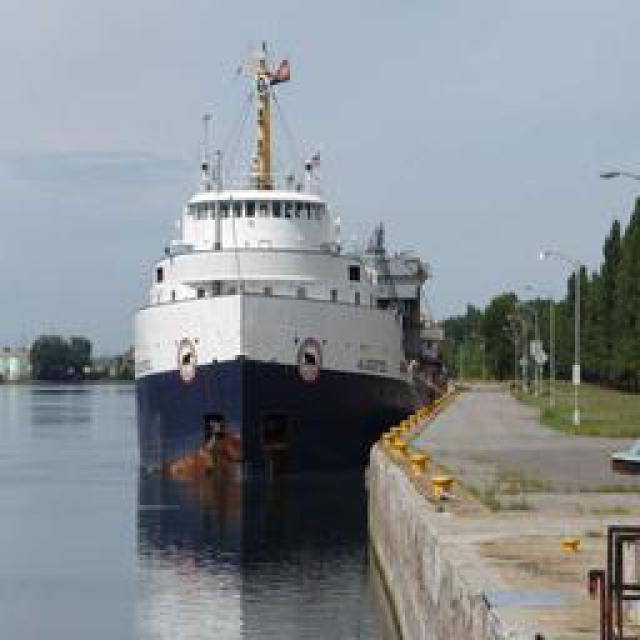Ship: (132, 43, 452, 501)
